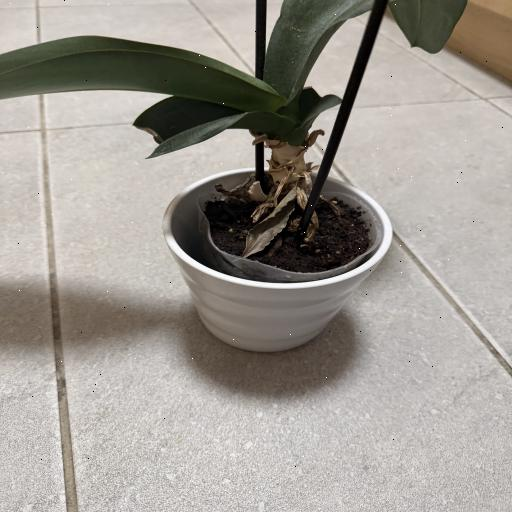Plant Pot: (155, 164, 391, 353)
